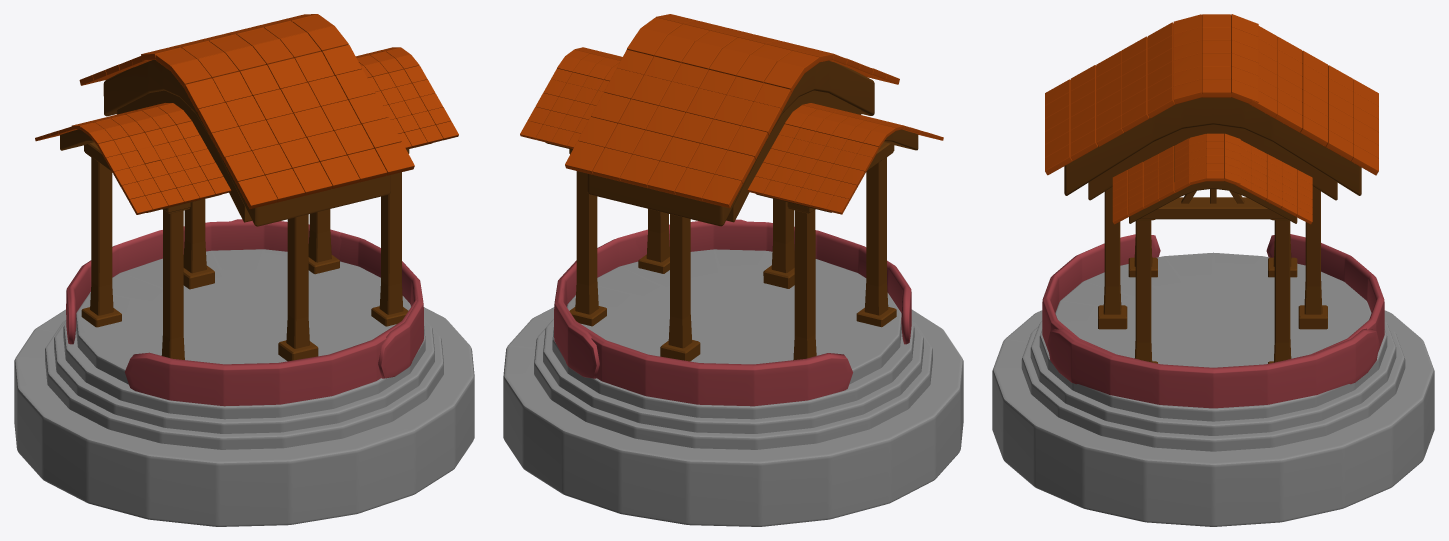
The model's file is Temple_Exterior_Gazebo_Tall_Week7.fbx.
3 views of the same model, side by side, from view 1: azimuth 30°, elevation 25°; view 2: azimuth 150°, elevation 25°; view 3: azimuth 270°, elevation 25° (orthographic). The views are drawn at different scales.
Visible parts, largest first — view 1: polySurface963; view 2: polySurface963; view 3: polySurface963.
Boxes of the visible parts, x1,y1,x2,y2 form: polySurface963: (14, 14, 474, 526); polySurface963: (503, 14, 963, 526); polySurface963: (992, 14, 1434, 526).
Bounding box in the file's own units: 8.85 × 8.18 × 8.62.
